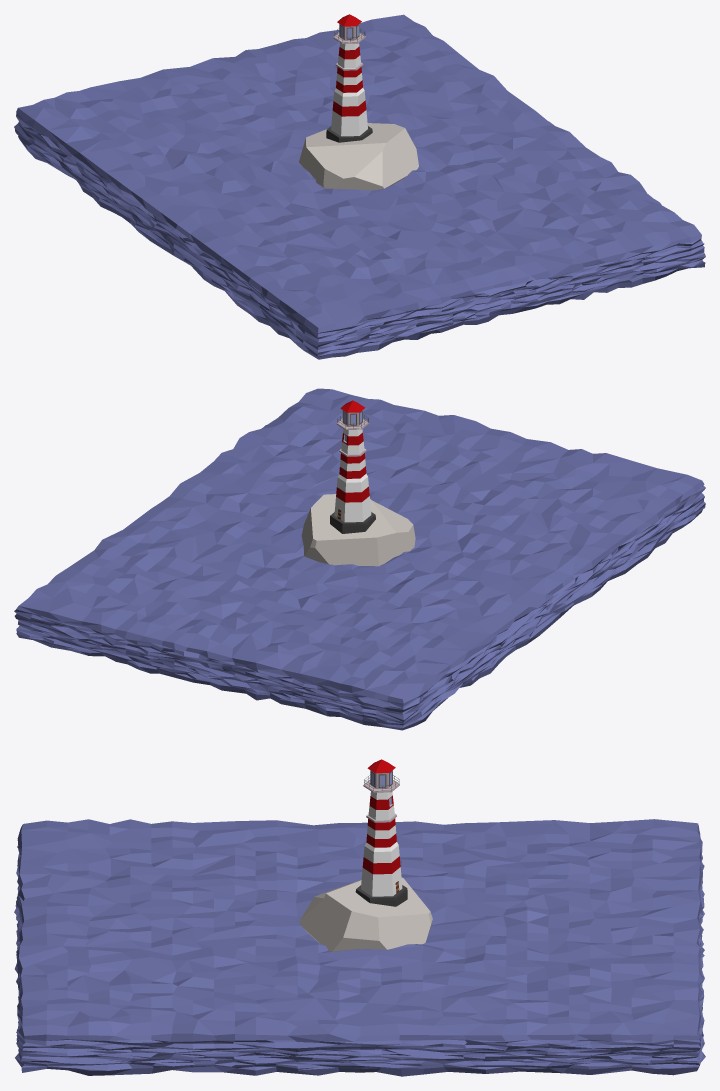
File: lighthouse.fbx
3 views of the same model, one above another, from view 1: azimuth 30°, elevation 25°; view 2: azimuth 150°, elevation 25°; view 3: azimuth 270°, elevation 25° (orthographic). The views are drawn at different scales.
Visible parts, largest first — view 1: Cube, Sphere, Circle; view 2: Cube, Sphere, Circle; view 3: Cube, Sphere, Circle.
Boxes of the visible parts, x1,y1,x2,y2 form: Cube: (14,14,705,359); Sphere: (299,123,418,190); Circle: (326,14,372,142); Cube: (14,388,705,730); Sphere: (301,494,415,566); Circle: (330,400,375,533); Cube: (14,819,705,1076); Sphere: (299,877,432,951); Circle: (355,759,407,906).
Size of the model in its own units: 2446 by 1116 by 3274.
